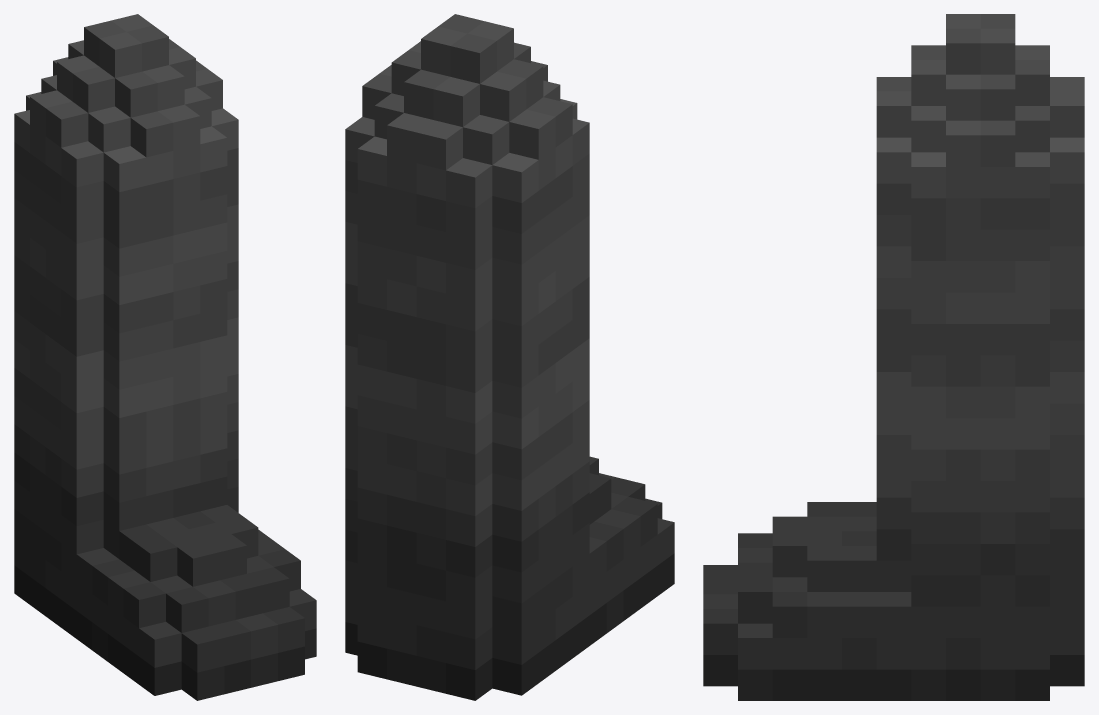
Rendered from Simple Charapter-5-Pierna-Pie.obj.
3 renders of one model, left to right at view 1: azimuth 30°, elevation 25°; view 2: azimuth 150°, elevation 25°; view 3: azimuth 270°, elevation 25°, orthographic. The views are drawn at different scales.
Visible parts, largest first — view 1: Pierna-Pie; view 2: Pierna-Pie; view 3: Pierna-Pie.
Boxes of the visible parts, box(x1,y1,x2,y2) form: Pierna-Pie: box(14, 14, 316, 700); Pierna-Pie: box(345, 14, 674, 700); Pierna-Pie: box(703, 14, 1084, 700).
Size of the model in its own units: 0.6 by 2 by 1.1.
Materials: 1 (1 with a texture image).
